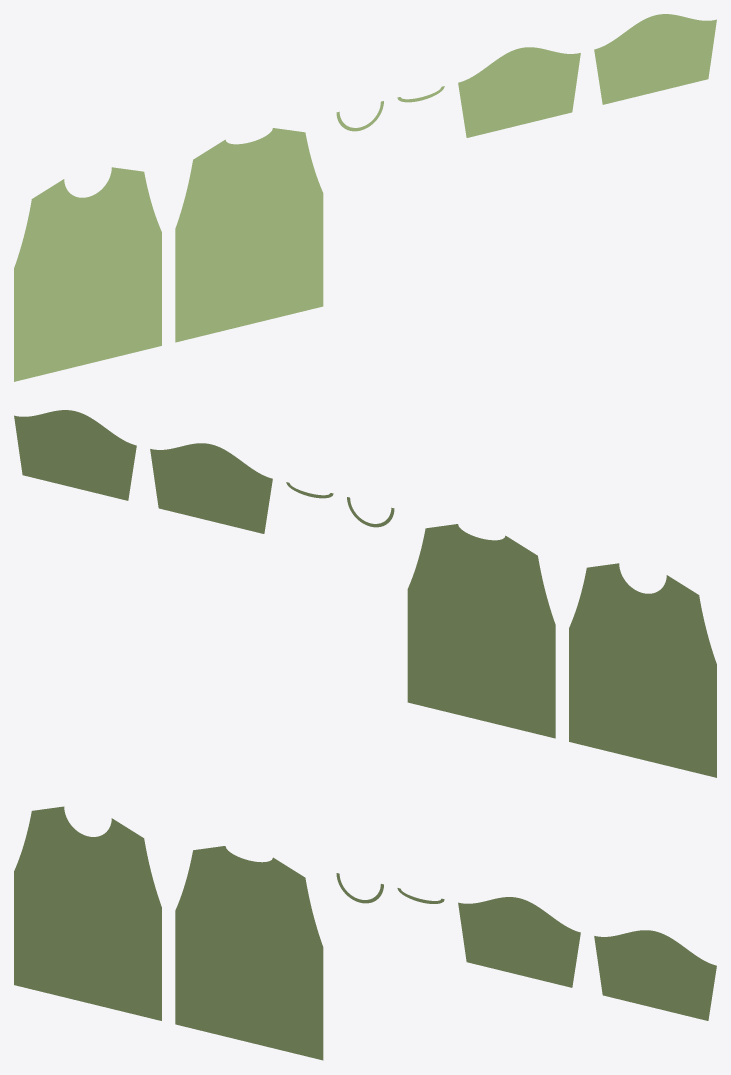
The model's file is camiseta-deportiva-malla-regular-talla-L.glb.
3 renders of one model, top to bottom at view 1: azimuth 30°, elevation 25°; view 2: azimuth 150°, elevation 25°; view 3: azimuth 330°, elevation 25°, orthographic.
Parts seen in each view (by area): view 1: patron-espalda, patron-delantero, patron-manga-izq, patron-manga-der; view 2: patron-espalda, patron-delantero, patron-manga-izq, patron-manga-der; view 3: patron-espalda, patron-delantero, patron-manga-izq, patron-manga-der.
Boxes of the visible parts, x1,y1,x2,y2 form: patron-espalda: (175,128,323,342); patron-delantero: (14,167,161,381); patron-manga-izq: (458,47,580,137); patron-manga-der: (594,14,716,104); patron-espalda: (407,524,555,738); patron-delantero: (569,563,716,777); patron-manga-izq: (150,443,272,533); patron-manga-der: (14,410,136,500); patron-espalda: (175,846,323,1060); patron-delantero: (14,806,161,1020); patron-manga-izq: (458,897,580,987); patron-manga-der: (594,930,716,1020).
Size of the model in its own units: 2.66 by 0.76 by 0.
